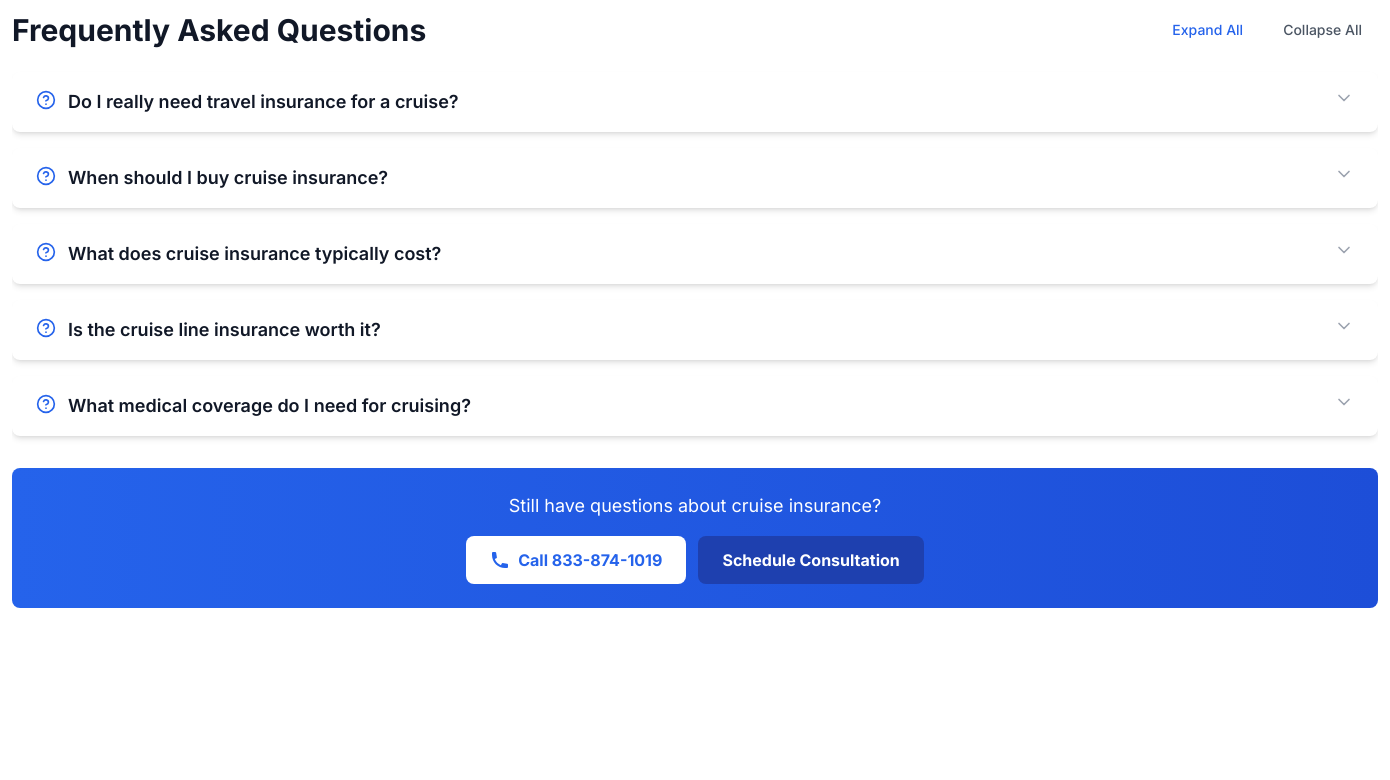
Test: FAQAccordion Component › should allow multiple items to be expanded simultaneously
This screenshot has width=1390, height=780.
# Click first question
Click the button "Do I really need travel insurance for a cruise?": click(263, 102) [12,72,1378,132]
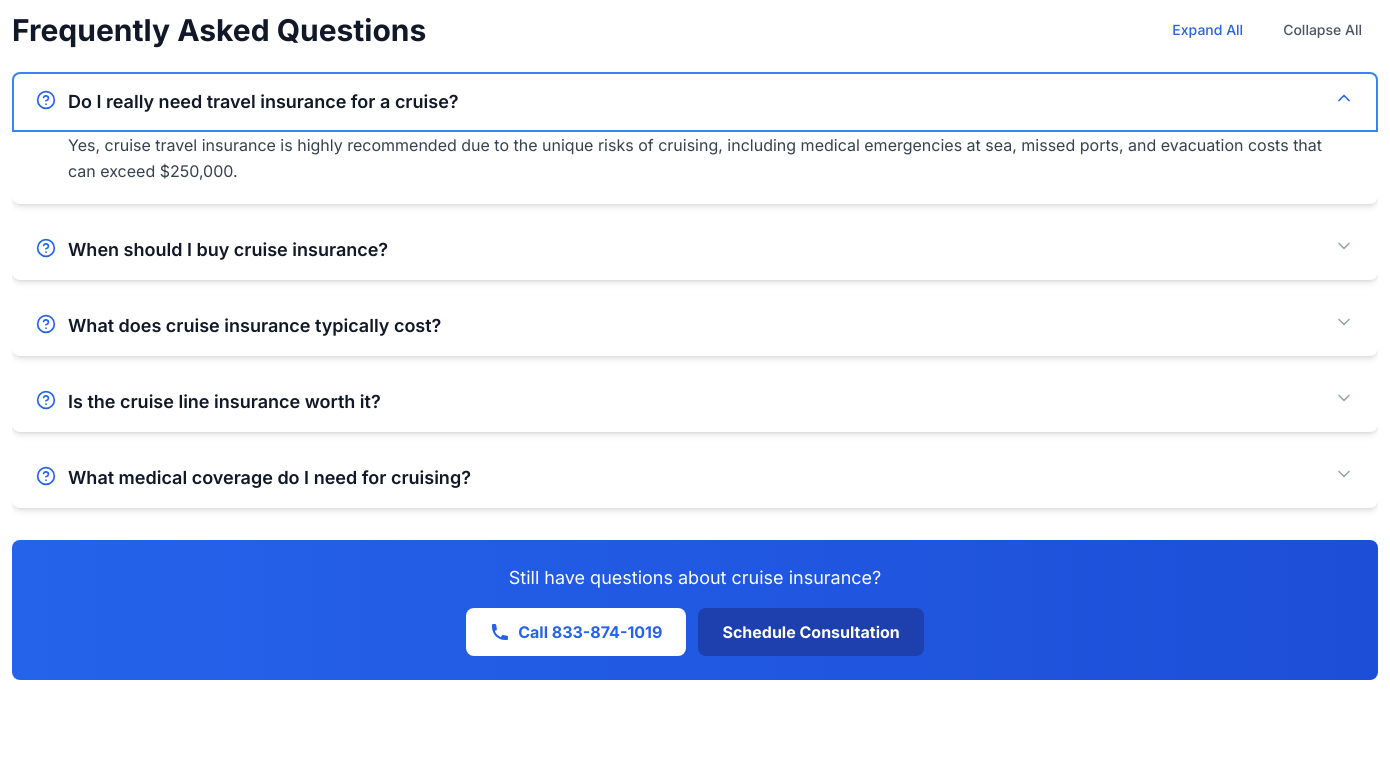
# Click second question
Click the button "When should I buy cruise insurance?": click(228, 250) [12,220,1378,280]
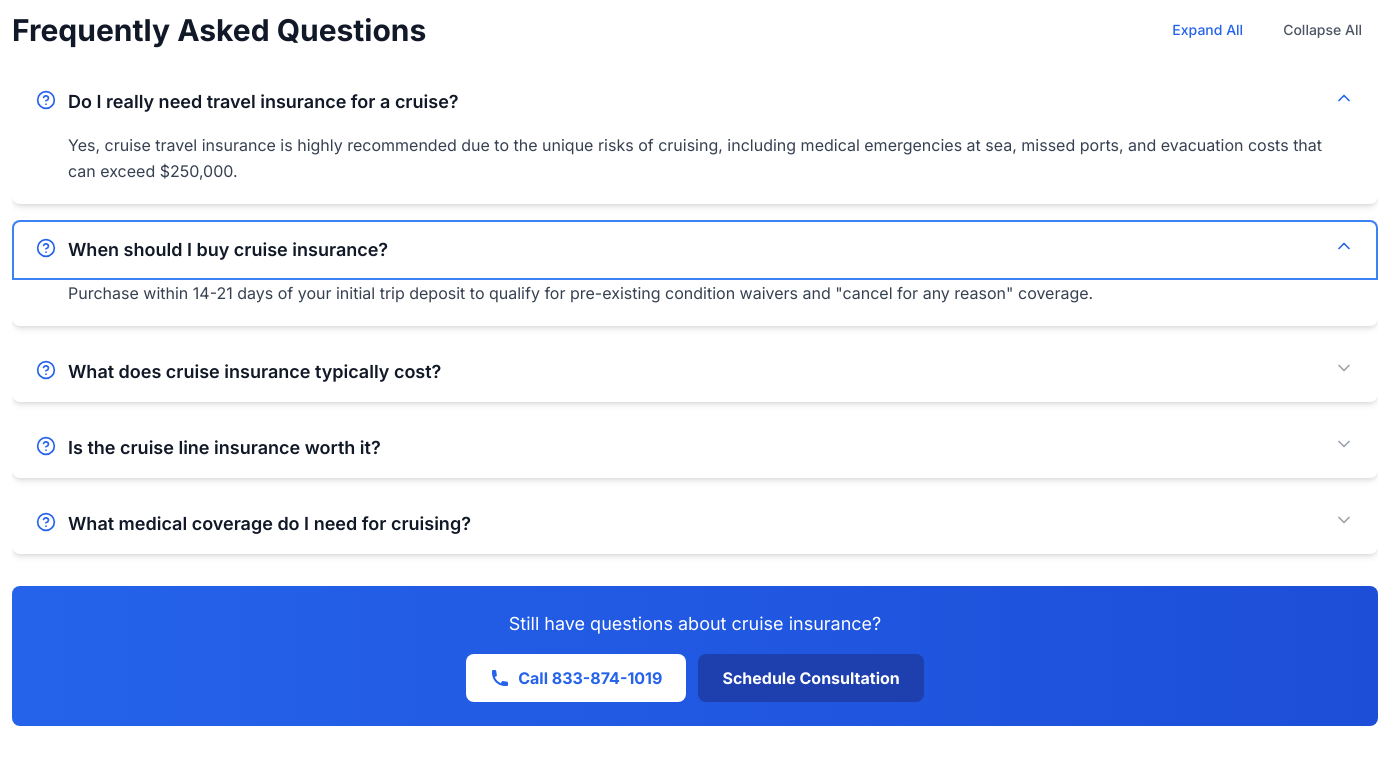
Expected: the text "Yes, cruise travel insurance is highly recommended due to the unique risks of cruising, including medical emergencies at" is shown, [68,135,1322,181]
Expected: the text "Purchase within 14-21 days of your initial trip deposit to qualify for pre-existing condition waivers and \"cancel for an" is shown, [68,283,1093,303]
